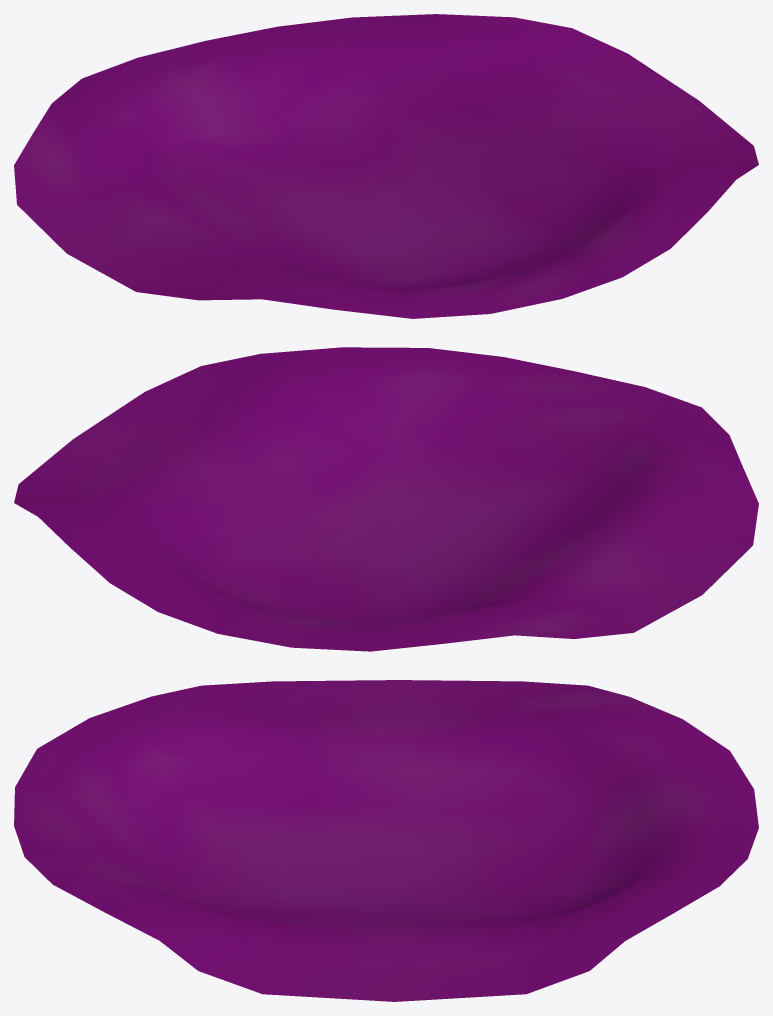
The model's file is model.nr_cave_terrain_circle_ice.fbx.
3 views of the same model, one above another, from view 1: azimuth 30°, elevation 25°; view 2: azimuth 150°, elevation 25°; view 3: azimuth 270°, elevation 25° (orthographic). The views are drawn at different scales.
Visible parts, largest first — view 1: Mesh; view 2: Mesh; view 3: Mesh.
Boxes of the visible parts, x1,y1,x2,y2 form: Mesh: [14, 14, 758, 318]; Mesh: [14, 347, 758, 651]; Mesh: [14, 680, 758, 1001].
Size of the model in its own units: 2187 by 189 by 2137.
